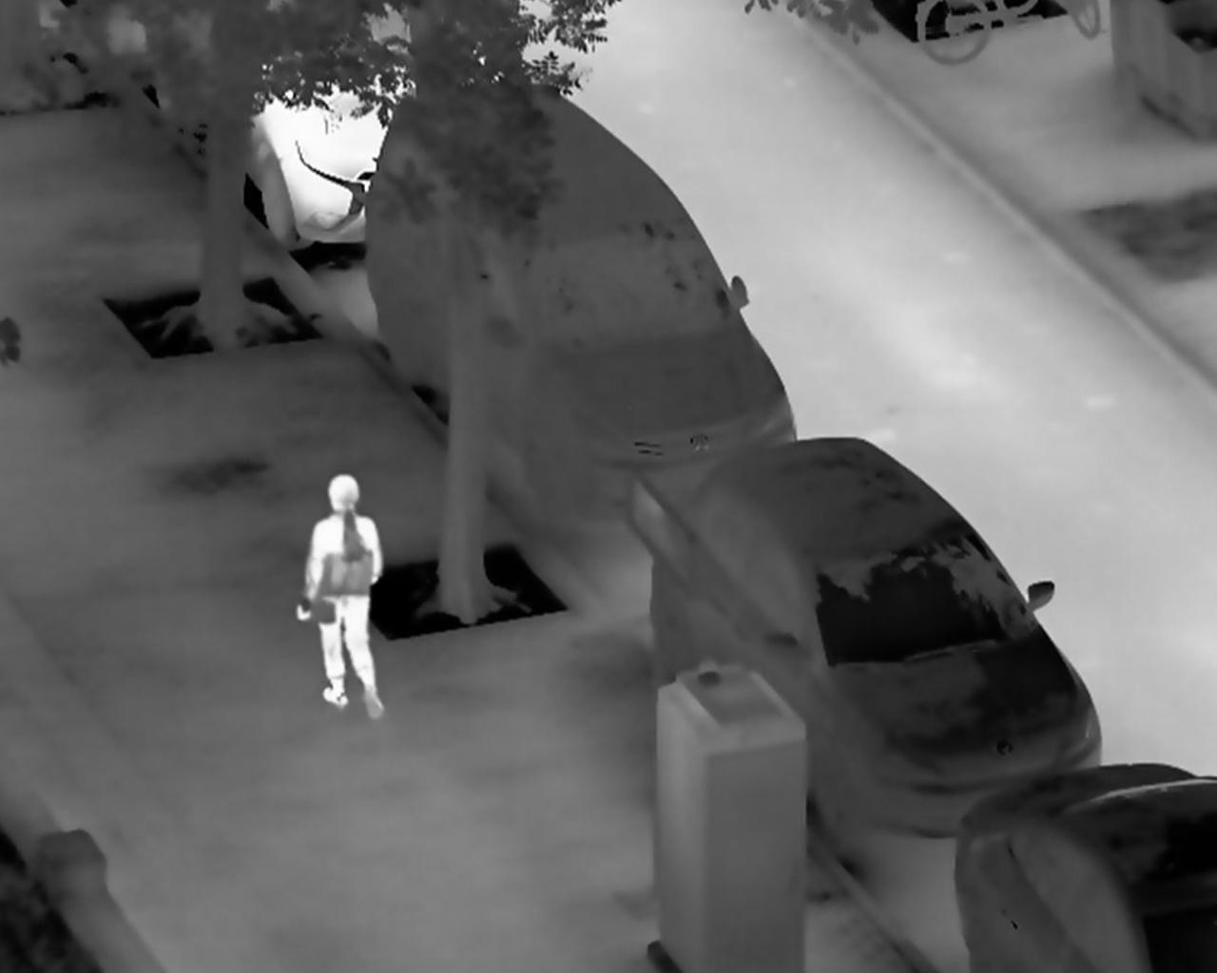person: (294, 471, 385, 727)
